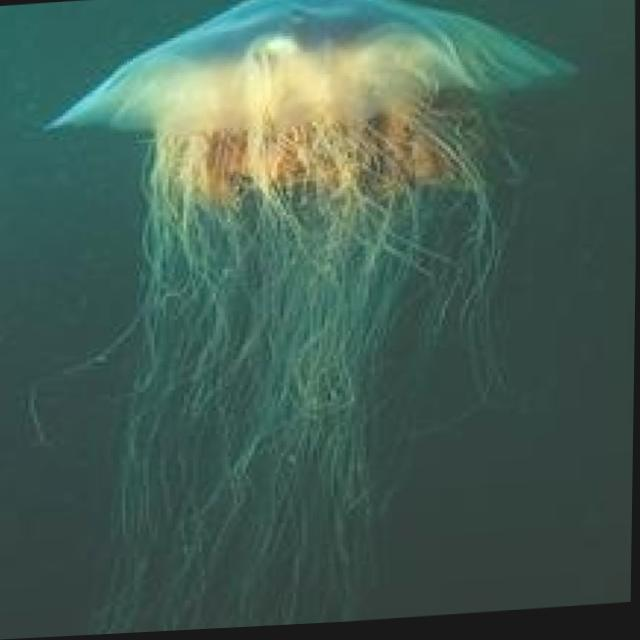Human: (22, 0, 589, 639)
